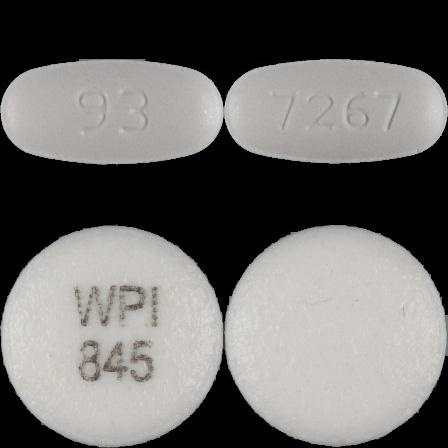0615-5583: (0, 0, 224, 224)
